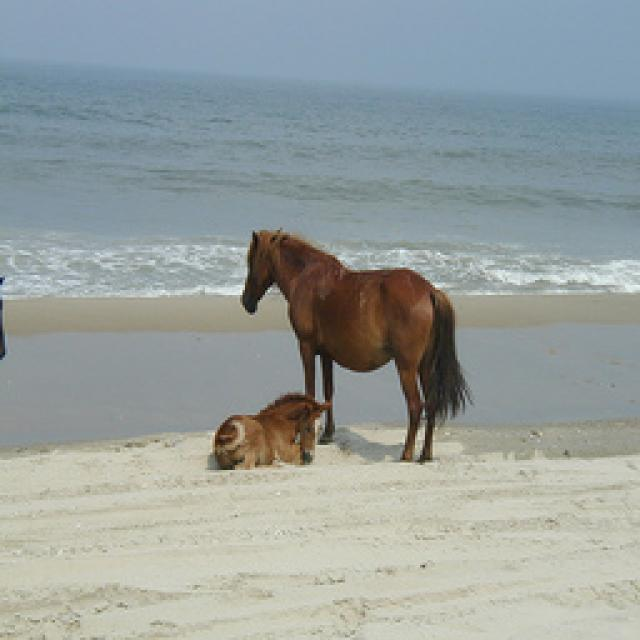Horse: (236, 228, 462, 466), (208, 392, 329, 478)
